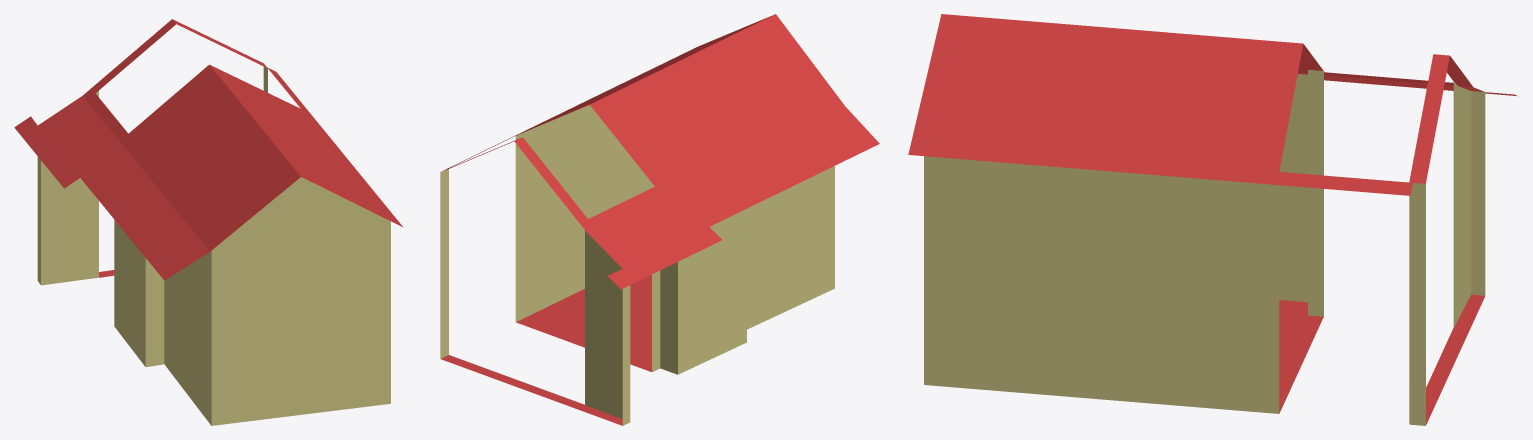
3 renders of one model, left to right at view 1: azimuth 30°, elevation 25°; view 2: azimuth 150°, elevation 25°; view 3: azimuth 270°, elevation 25°, orthographic. The views are drawn at different scales.
Size of the model in its own units: 15.97 by 23.49 by 13.49.
